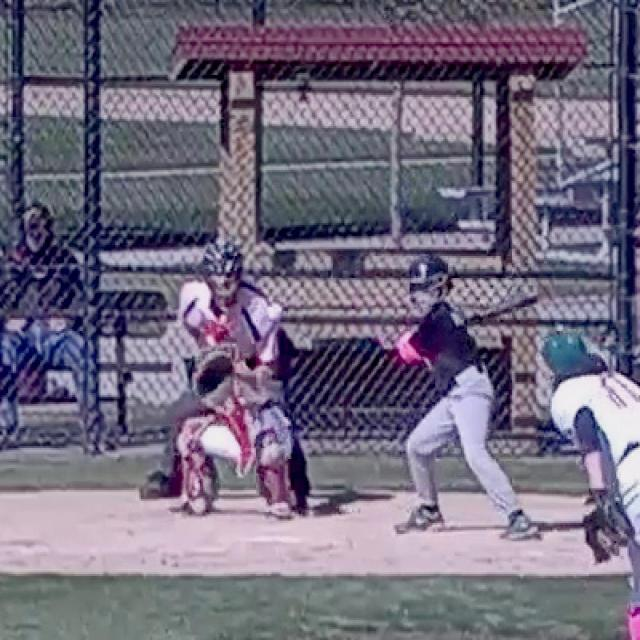baseball: (268, 303, 282, 319)
